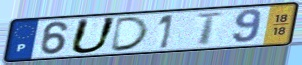1: (156, 13, 176, 49)
6: (40, 20, 71, 56)
9: (230, 7, 263, 45)
D: (108, 15, 152, 53)
T: (194, 11, 226, 46)
U: (67, 16, 120, 56)
